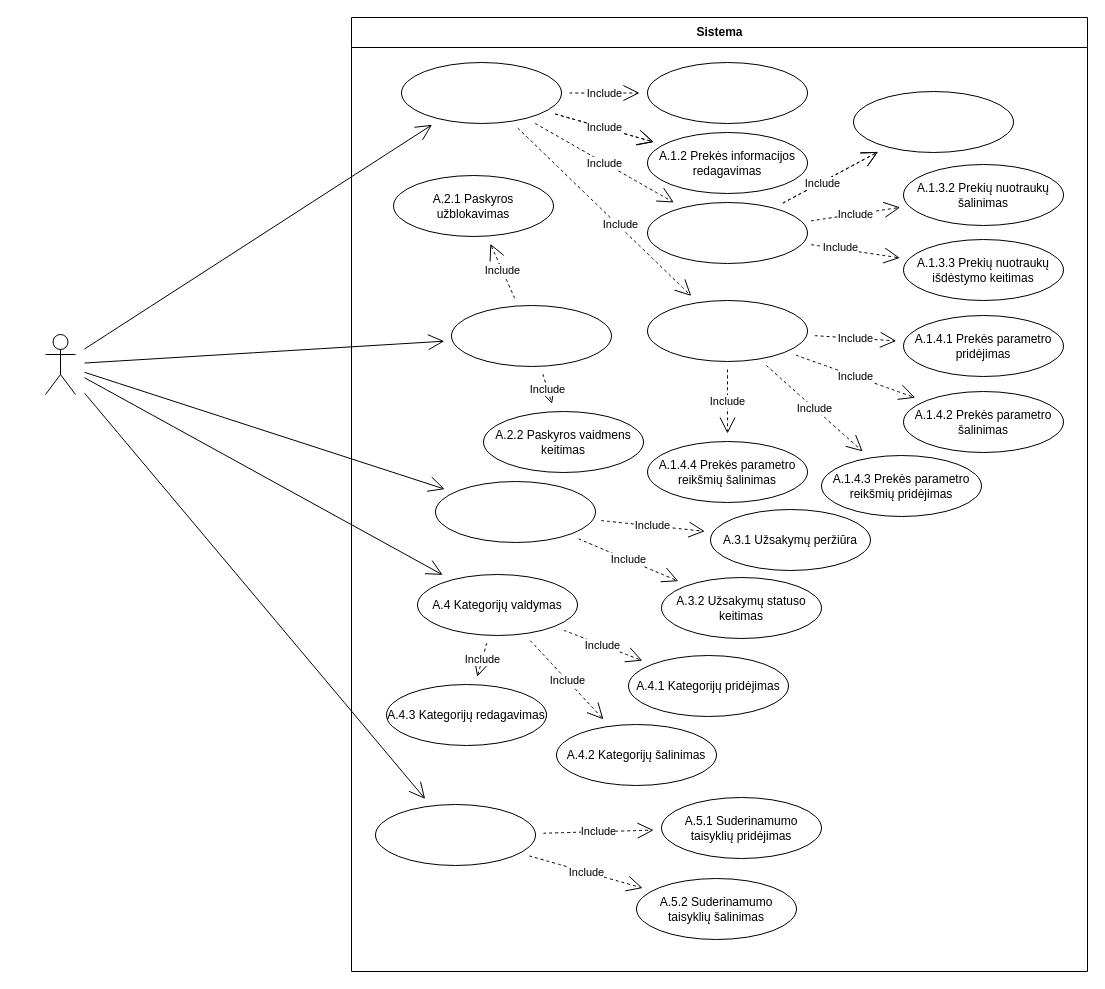
The diagram is 1105 pixels wide and 989 high, and some of its shapes have lost their labels. Here are the shapes that lost their labels. From the top down, the centre of each, then its label:
At (x=481, y=93): "A.1 Prekių valdymas".
At (x=727, y=93): "A.1.1 Naujų prekių pridėjimas".
At (x=933, y=121): "A.1.3.1 prekių nuotraukų pridėjimas".
At (x=727, y=233): "A.1.3 Prekių nuotraukų valdymas".
At (x=531, y=335): "A.2 Paskyrų valdymas".
At (x=727, y=331): "A.1.4 Prekės specifikacijos formavimas".
At (x=60, y=364): "Administratorius".
At (x=515, y=511): "A.3 Užsakymų valdymas".
At (x=455, y=835): "A.5 Suderinamumo taisyklių valdymas".
